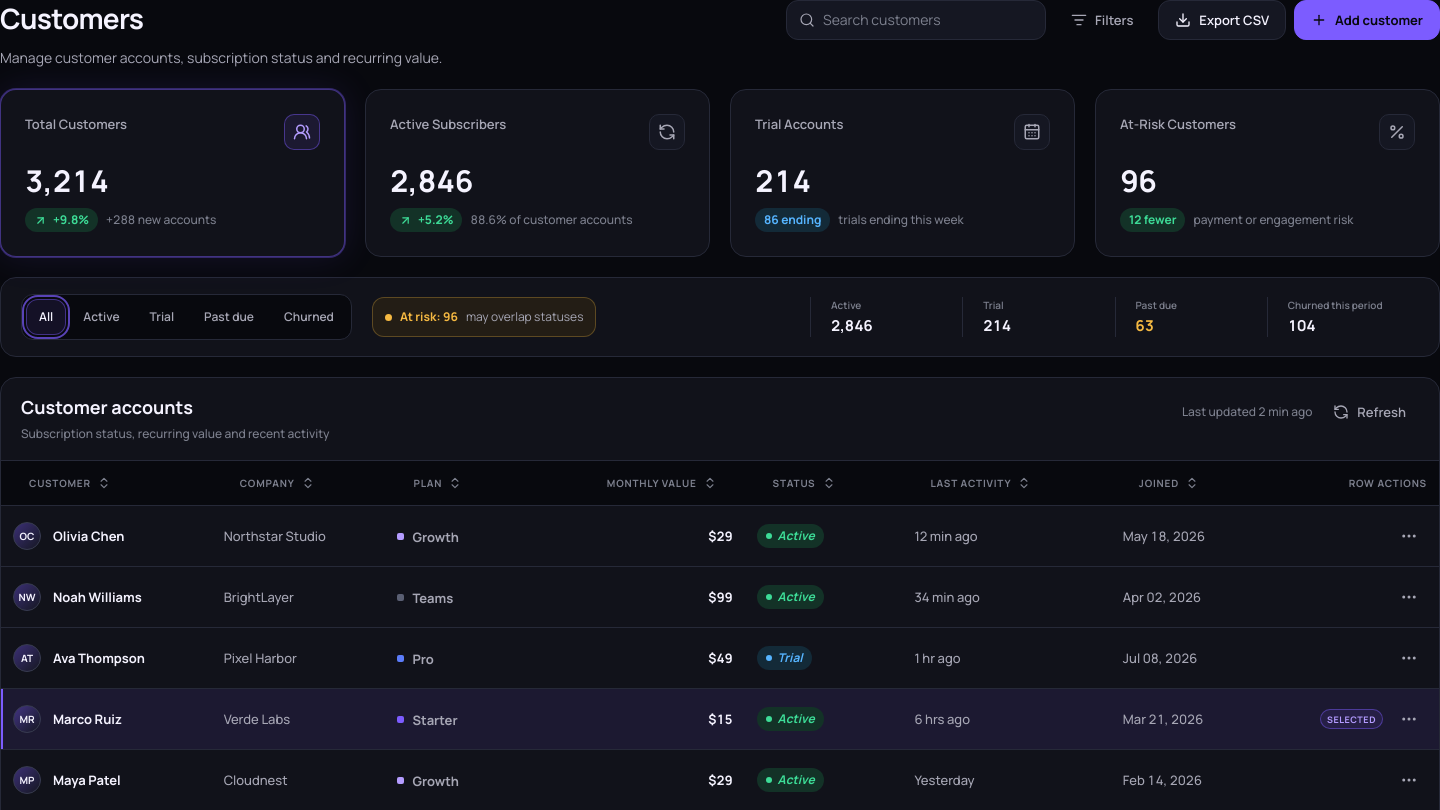
CustomersDashboard › composes keyboard lifecycle tabs with the independent At-risk condition
Press Arrowright
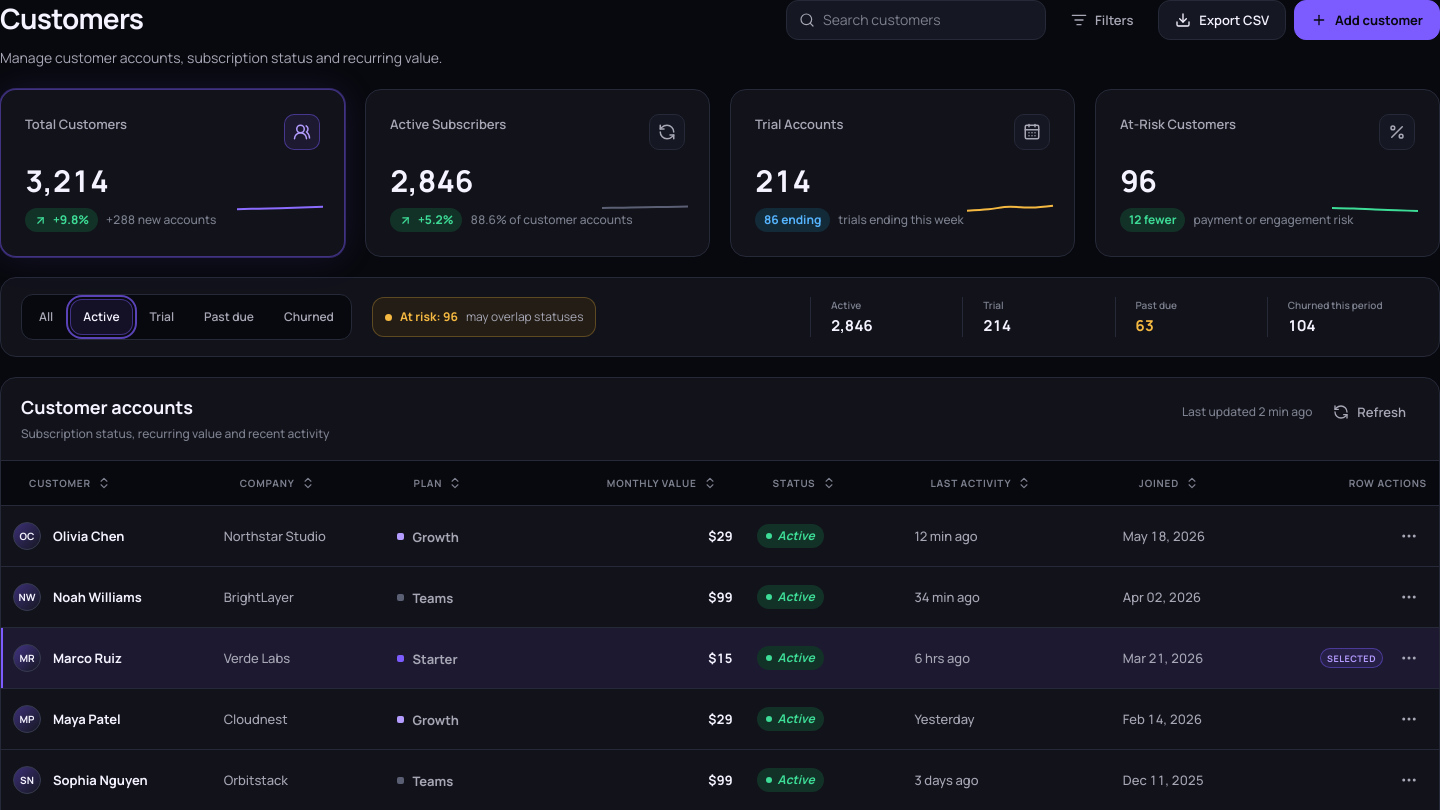
Result: the text "Active" is shown 5 times at 778,530 -> 815,542; 778,591 -> 815,603; 778,652 -> 815,664; 778,713 -> 815,725; 778,774 -> 815,786
Click the button "At risk: 96 may overlap statuses" at [484, 317], box 372,297 -> 596,337
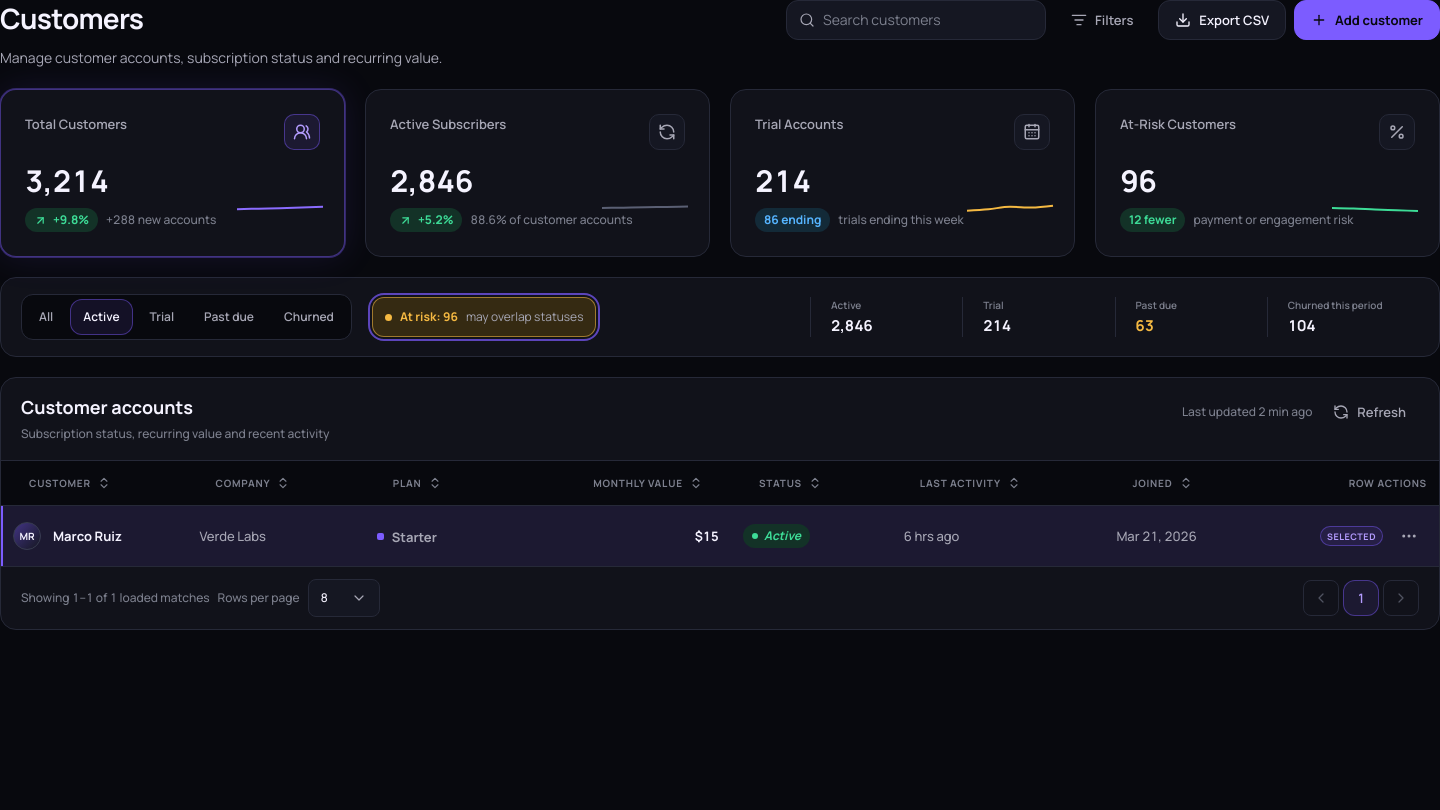
Expected: the column heading "MR Marco Ruiz" is shown, 1,506 -> 188,566
Result: the button "At risk: 96 may overlap statuses" is pressed at 372,297 -> 596,337
Type "Verde" into the search field labelled "Search customers" at [928, 20], box 823,9 -> 1033,31
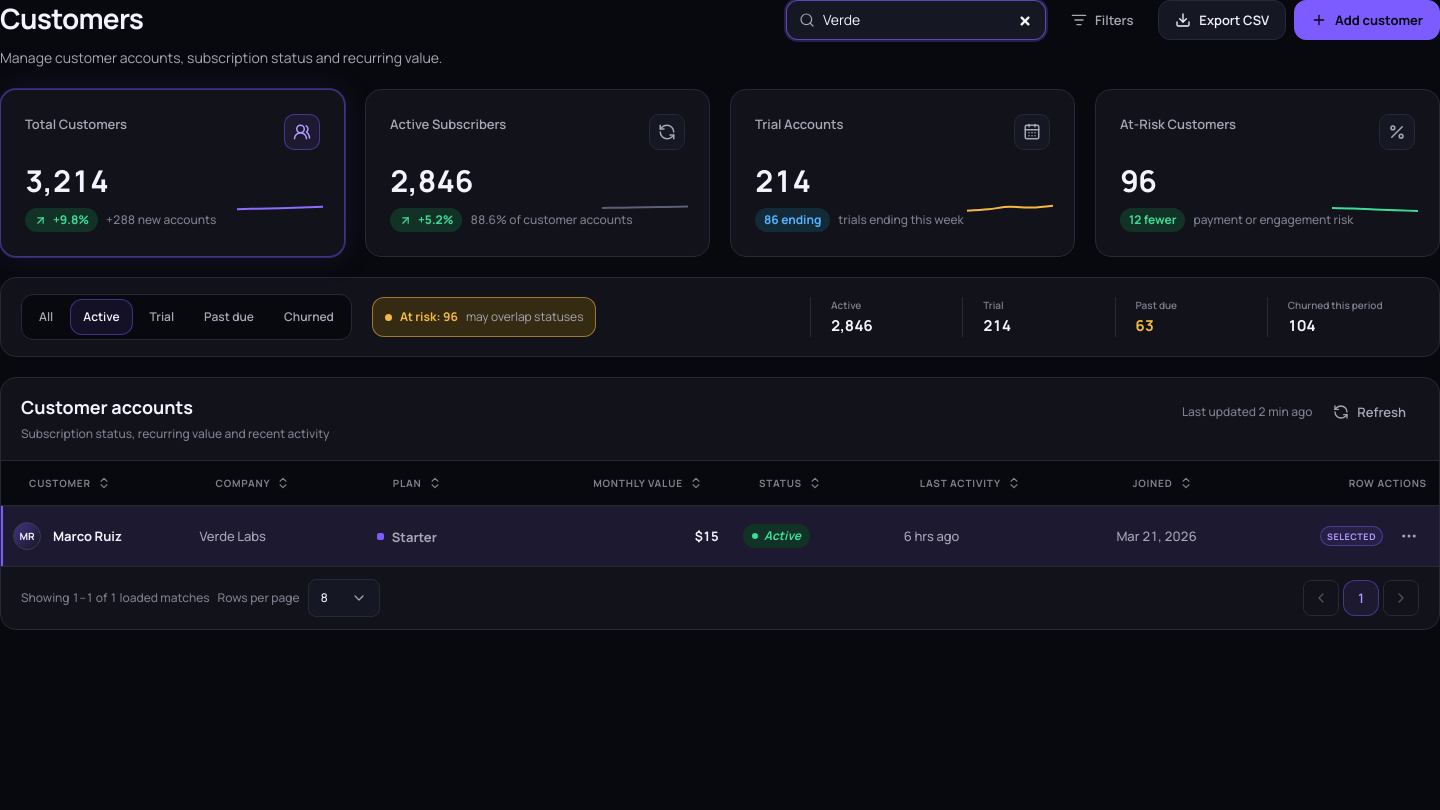
Expected: the column heading "MR Marco Ruiz" is shown, 1,506 -> 188,566
Replace the text in the search field named "Search customers" with "Northstar" at [928, 20], box 823,9 -> 1033,31
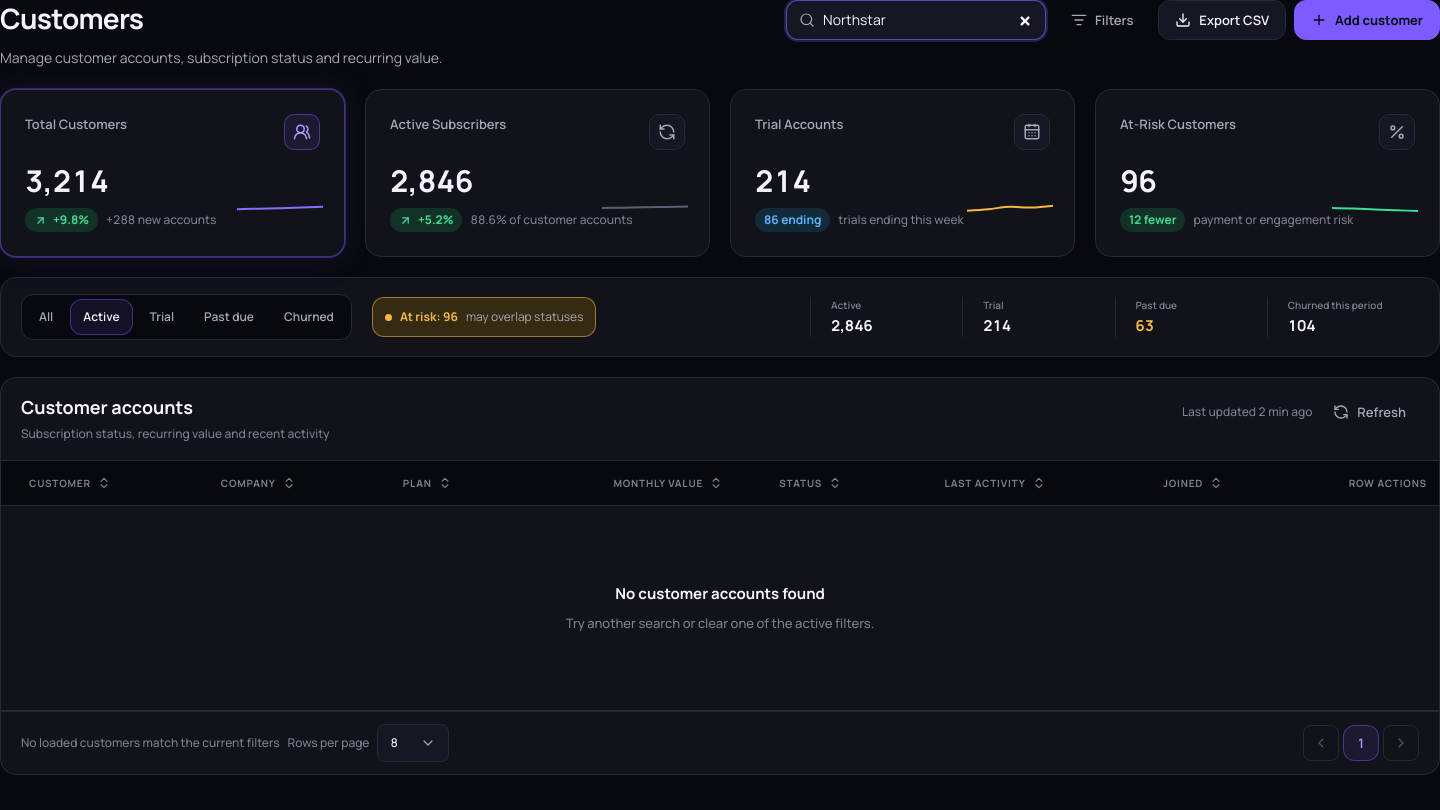
Result: the text "No customer accounts found" is shown at 615,583 -> 825,605
